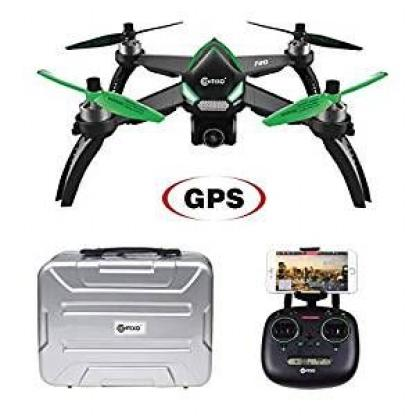drone: (32, 9, 395, 220)
